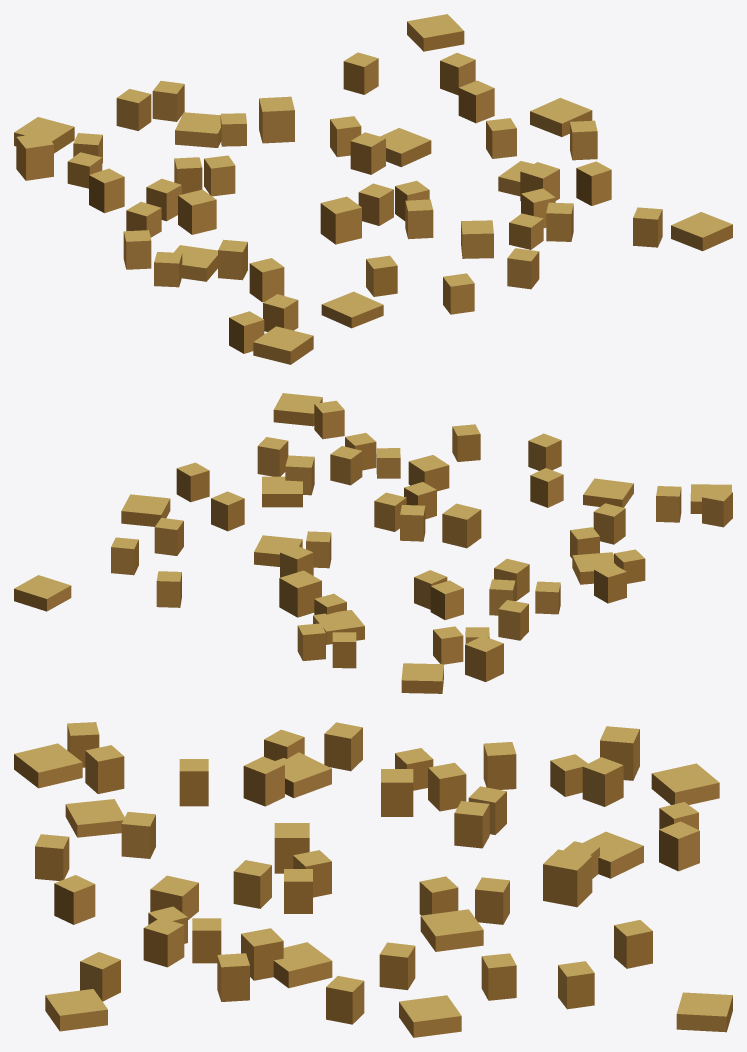
The model's file is Crops_WheatCut.gltf.
3 views of the same model, one above another, from view 1: azimuth 30°, elevation 25°; view 2: azimuth 150°, elevation 25°; view 3: azimuth 270°, elevation 25° (orthographic). The views are drawn at different scales.
Visible parts, largest first — view 1: SF_Prop_Crops_WheatCut_01; view 2: SF_Prop_Crops_WheatCut_01; view 3: SF_Prop_Crops_WheatCut_01.
Boxes of the visible parts, <box> form: SF_Prop_Crops_WheatCut_01: <box>14,14,732,364</box>; SF_Prop_Crops_WheatCut_01: <box>14,393,732,693</box>; SF_Prop_Crops_WheatCut_01: <box>14,722,732,1037</box>.
Bounding box in the file's own units: 0.09 × 0.00556 × 0.0965.
Materials: 1 (1 with a texture image).
